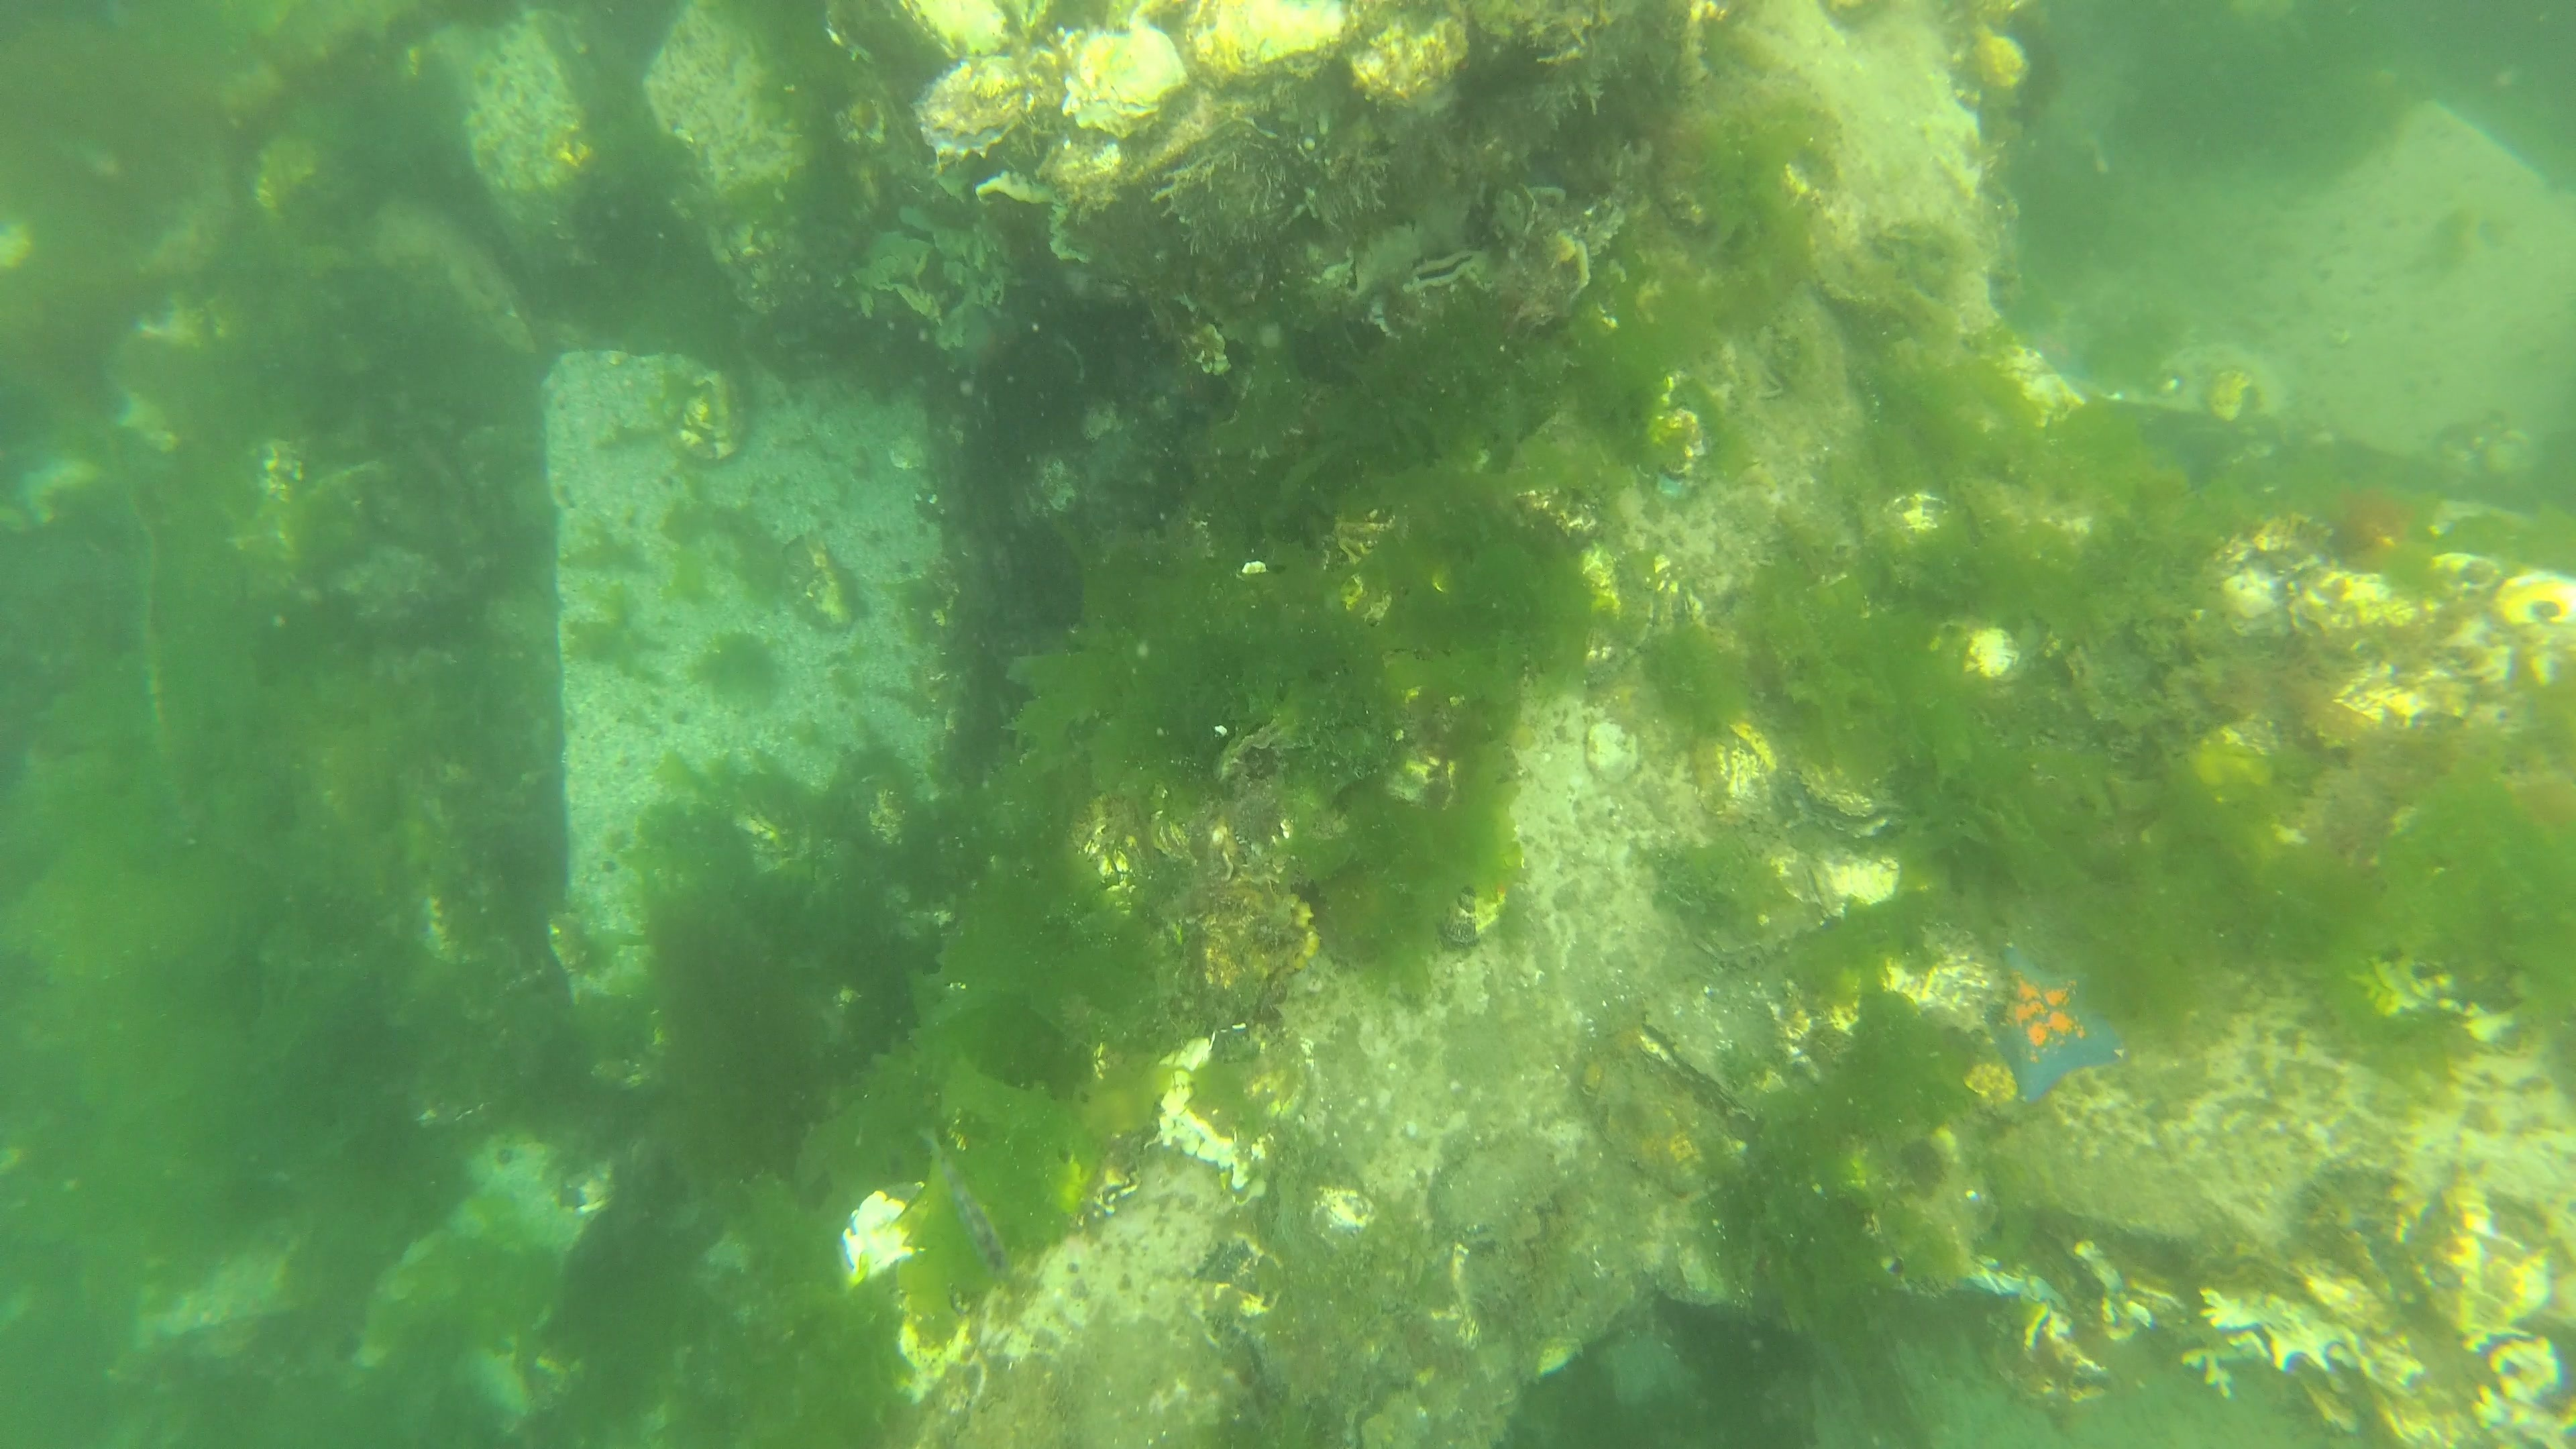starfish: (1971, 939, 2125, 1108)
